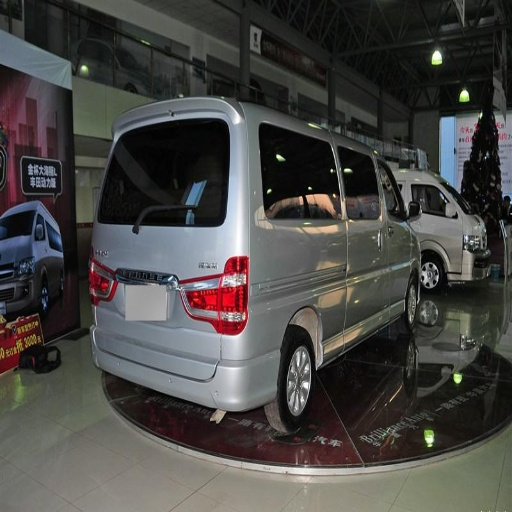back_bumper: (92, 307, 282, 411), (358, 448, 494, 510)
trunk: (99, 229, 238, 371), (244, 217, 382, 350)
